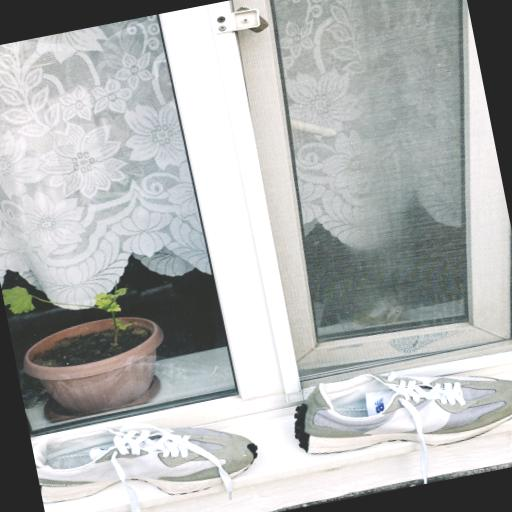shoe: (283, 340, 512, 473), (31, 397, 266, 512)
